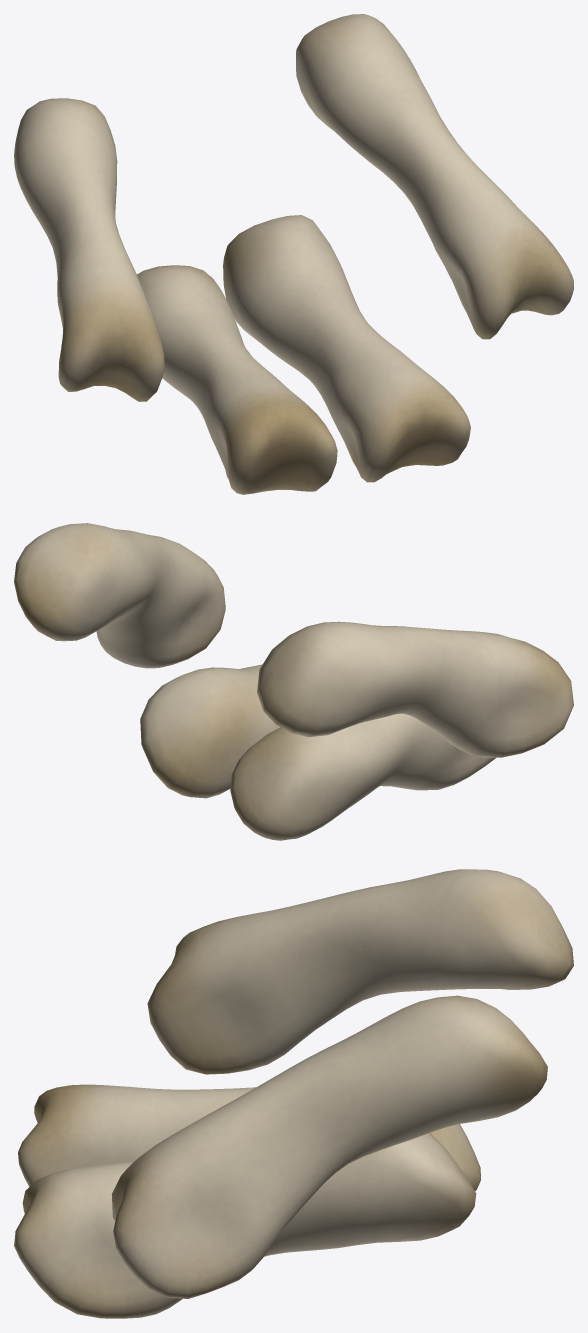
File: BR 1st Phalanx.fbx
The picture shows the model from 3 angles, top to bottom: view 1: azimuth 30°, elevation 25°; view 2: azimuth 150°, elevation 25°; view 3: azimuth 270°, elevation 25°; orthographic projection. The views are drawn at different scales.
Parts seen in each view (by area): view 1: BR 1st Phalanx; view 2: BR 1st Phalanx; view 3: BR 1st Phalanx.
Boxes of the visible parts, <box> form: BR 1st Phalanx: <box>14,14,573,494</box>; BR 1st Phalanx: <box>14,523,573,840</box>; BR 1st Phalanx: <box>14,869,573,1318</box>.
Size of the model in its own units: 6.82 by 4.28 by 5.9.
